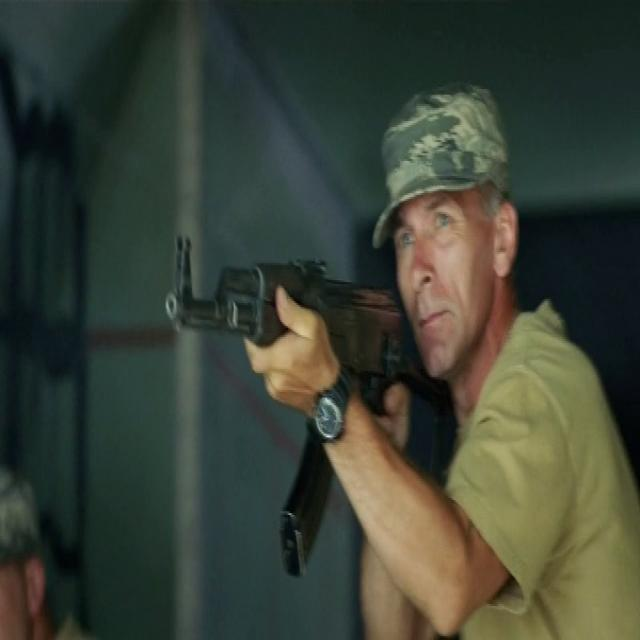rifle: (160, 230, 456, 581)
